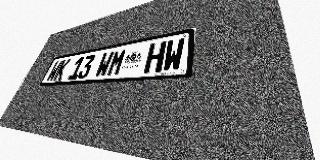1: (67, 56, 86, 80)
3: (76, 54, 96, 79)
H: (143, 41, 167, 73)
K: (53, 59, 71, 81)
M: (106, 48, 127, 76)
W: (161, 38, 185, 72), (94, 51, 115, 77), (45, 60, 63, 81)
